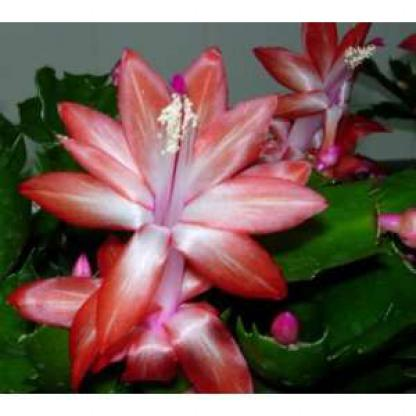Holiday Cactus: (1, 14, 399, 385)
